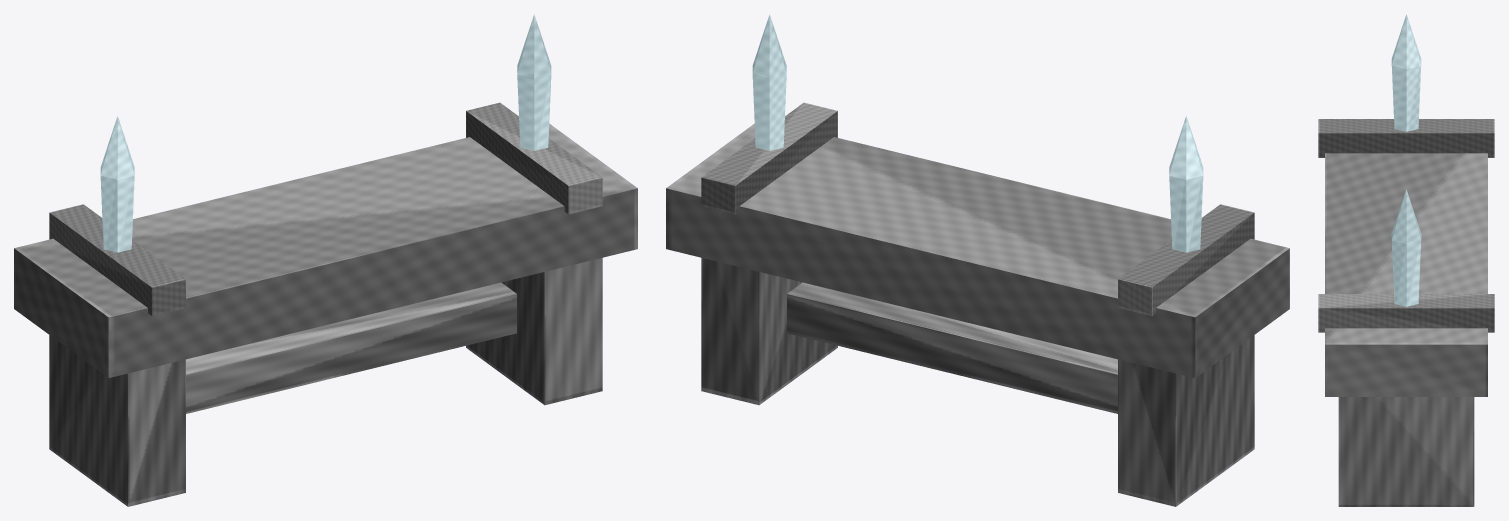
Rendered from furniture-crystal-bench.glb.
3 views of the same model, side by side, from view 1: azimuth 30°, elevation 25°; view 2: azimuth 150°, elevation 25°; view 3: azimuth 270°, elevation 25° (orthographic). The views are drawn at different scales.
Parts seen in each view (by area): view 1: seat, stretcher, leg--0.61, leg-0.61, end-band-0.61, end-band--0.61, end-crystal--0.61, end-crystal-0.61; view 2: seat, stretcher, leg--0.61, leg-0.61, end-band-0.61, end-band--0.61, end-crystal--0.61, end-crystal-0.61; view 3: seat, leg-0.61, end-band--0.61, end-band-0.61, end-crystal--0.61, end-crystal-0.61.
Boxes of the visible parts, x1,y1,x2,y2 form: seat: (14, 123, 637, 377); stretcher: (186, 282, 516, 413); leg--0.61: (49, 335, 185, 506); leg-0.61: (466, 258, 602, 405); end-band-0.61: (466, 102, 602, 214); end-band--0.61: (49, 204, 185, 315); end-crystal--0.61: (100, 116, 134, 252); end-crystal-0.61: (517, 14, 551, 150); seat: (666, 123, 1289, 377); stretcher: (787, 282, 1117, 413); leg--0.61: (1118, 335, 1254, 506); leg-0.61: (701, 258, 837, 405); end-band-0.61: (701, 102, 837, 214); end-band--0.61: (1118, 204, 1254, 315); end-crystal--0.61: (1169, 116, 1203, 252); end-crystal-0.61: (752, 14, 786, 150); seat: (1325, 153, 1487, 396); leg-0.61: (1338, 397, 1474, 506); end-band--0.61: (1318, 119, 1494, 157); end-band-0.61: (1318, 294, 1494, 332); end-crystal--0.61: (1391, 14, 1421, 131); end-crystal-0.61: (1391, 189, 1421, 306).
Bounding box in the file's own units: 1.55 × 0.9944 × 0.52.
8 materials, 8 textured.
